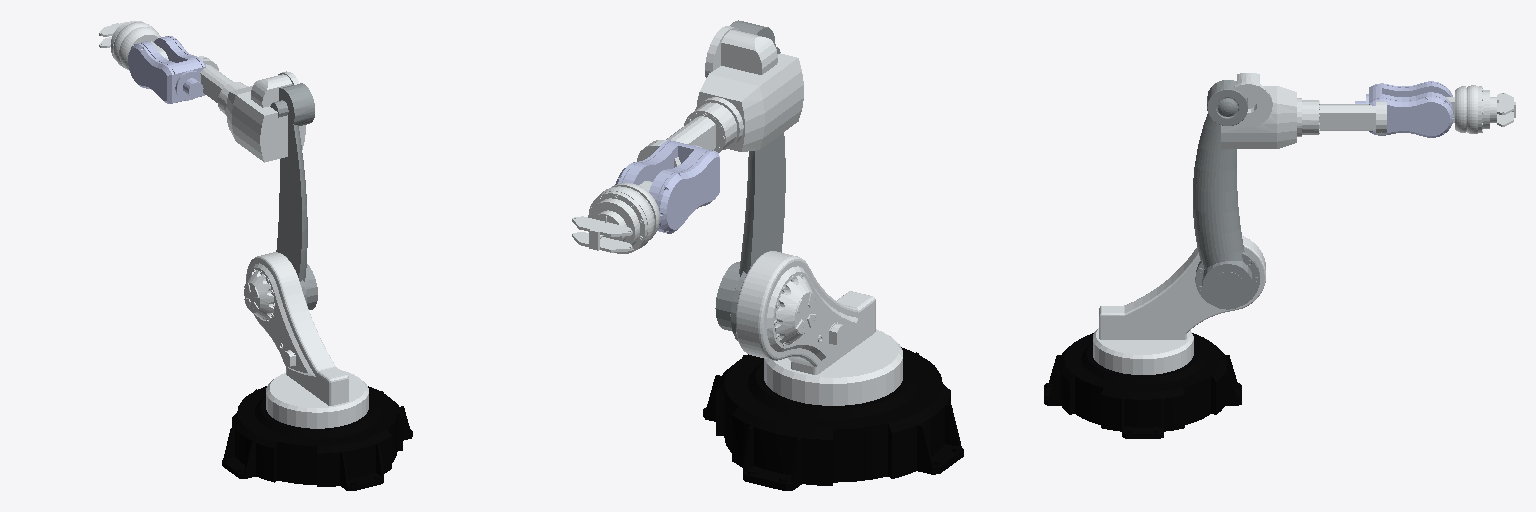
The robot description file, URDF, robot "dof6arm":
<?xml version="1.0" encoding="utf-8"?>
<!-- This URDF was automatically created by SolidWorks to URDF Exporter! Originally created by Stephen Brawner (brawner@gmail.com) 
     Commit Version: 1.6.0-4-g7f85cfe  Build Version: 1.6.7995.38578
     For more information, please see http://wiki.ros.org/sw_urdf_exporter -->
<robot
  name="dof6arm">
  <link
    name="base_link">
    <inertial>
      <origin
        xyz="-4.0864E-17 5.9406E-17 0.039627"
        rpy="0 0 0" />
      <mass
        value="5.5104" />
      <inertia
        ixx="0.032533"
        ixy="-5.673E-17"
        ixz="6.6064E-18"
        iyy="0.032533"
        iyz="2.006E-18"
        izz="0.058905" />
    </inertial>
    <visual>
      <origin
        xyz="0 0 0"
        rpy="0 0 0" />
      <geometry>
        <mesh
          filename="package://dof6arm/meshes/base_link.STL" />
      </geometry>
      <material
        name="">
        <color
          rgba="0.058824 0.058824 0.058824 1" />
      </material>
    </visual>
    <collision>
      <origin
        xyz="0 0 0"
        rpy="0 0 0" />
      <geometry>
        <mesh
          filename="package://dof6arm/meshes/base_link.STL" />
      </geometry>
    </collision>
  </link>
  <link
    name="link1">
    <inertial>
      <origin
        xyz="0.0563146133187169 0.00239652717597299 0.0813964976165743"
        rpy="0 0 0" />
      <mass
        value="2.25493378297323" />
      <inertia
        ixx="0.011607639577804"
        ixy="-0.000401687438060295"
        ixz="-0.00887971625811838"
        iyy="0.0231563698921059"
        iyz="-0.000351050031071559"
        izz="0.0158798775719755" />
    </inertial>
    <visual>
      <origin
        xyz="0 0 0"
        rpy="0 0 0" />
      <geometry>
        <mesh
          filename="package://dof6arm/meshes/link1.STL" />
      </geometry>
      <material
        name="">
        <color
          rgba="0.898039215686275 0.917647058823529 0.929411764705882 1" />
      </material>
    </visual>
    <collision>
      <origin
        xyz="0 0 0"
        rpy="0 0 0" />
      <geometry>
        <mesh
          filename="package://dof6arm/meshes/link1.STL" />
      </geometry>
    </collision>
  </link>
  <joint
    name="joint1"
    type="revolute">
    <origin
      xyz="0 0 0.085"
      rpy="0 0 1.5708" />
    <parent
      link="base_link" />
    <child
      link="link1" />
    <axis
      xyz="0 0 1" />
    <limit
      lower="-3.14"
      upper="3.14"
      effort="200"
      velocity="10" />
  </joint>
  <link
    name="link2">
    <inertial>
      <origin
        xyz="-0.00806034777883224 0.142663588040641 0.015222810563985"
        rpy="0 0 0" />
      <mass
        value="0.920714229759599" />
      <inertia
        ixx="0.0178612448022285"
        ixy="0.00015240648671748"
        ixz="-3.03747804024019E-05"
        iyy="0.000614865169369136"
        iyz="7.16300104564684E-05"
        izz="0.0182052343067563" />
    </inertial>
    <visual>
      <origin
        xyz="0 0 0"
        rpy="0 0 0" />
      <geometry>
        <mesh
          filename="package://dof6arm/meshes/link2.STL" />
      </geometry>
      <material
        name="">
        <color
          rgba="0.63921568627451 0.666666666666667 0.67843137254902 1" />
      </material>
    </visual>
    <collision>
      <origin
        xyz="0 0 0"
        rpy="0 0 0" />
      <geometry>
        <mesh
          filename="package://dof6arm/meshes/link2.STL" />
      </geometry>
    </collision>
  </link>
  <joint
    name="joint2"
    type="revolute">
    <origin
      xyz="0.15 -0.02 0.16"
      rpy="1.5708 0 0" />
    <parent
      link="link1" />
    <child
      link="link2" />
    <axis
      xyz="0 0 1" />
    <limit
      lower="-1.57"
      upper="1.57"
      effort="200"
      velocity="10" />
  </joint>
  <link
    name="link3">
    <inertial>
      <origin
        xyz="-0.0399152602038644 -0.0446167070292327 -0.0460373494010405"
        rpy="0 0 0" />
      <mass
        value="1.43145554418529" />
      <inertia
        ixx="0.00807676591024907"
        ixy="-0.000324747907195901"
        ixz="-0.000112859910370775"
        iyy="0.00186636959248532"
        iyz="-9.341394228171E-05"
        izz="0.00844554620214213" />
    </inertial>
    <visual>
      <origin
        xyz="0 0 0"
        rpy="0 0 0" />
      <geometry>
        <mesh
          filename="package://dof6arm/meshes/link3.STL" />
      </geometry>
      <material
        name="">
        <color
          rgba="0.898039215686275 0.917647058823529 0.929411764705882 1" />
      </material>
    </visual>
    <collision>
      <origin
        xyz="0 0 0"
        rpy="0 0 0" />
      <geometry>
        <mesh
          filename="package://dof6arm/meshes/link3.STL" />
      </geometry>
    </collision>
  </link>
  <joint
    name="joint3"
    type="revolute">
    <origin
      xyz="0 0.35 0"
      rpy="0 0 1.5708" />
    <parent
      link="link2" />
    <child
      link="link3" />
    <axis
      xyz="0 0 1" />
    <limit
      lower="-3.14"
      upper="1.57"
      effort="200"
      velocity="10" />
  </joint>
  <link
    name="link4">
    <inertial>
      <origin
        xyz="0 -9.99200722162641E-16 0.065964889335451"
        rpy="0 0 0" />
      <mass
        value="0.581435273248315" />
      <inertia
        ixx="0.00158017066215487"
        ixy="2.44381629558985E-10"
        ixz="-7.35582035514334E-19"
        iyy="0.0014063460239573"
        iyz="-1.03875614714129E-18"
        izz="0.000596523986913166" />
    </inertial>
    <visual>
      <origin
        xyz="0 0 0"
        rpy="0 0 0" />
      <geometry>
        <mesh
          filename="package://dof6arm/meshes/link4.STL" />
      </geometry>
      <material
        name="">
        <color
          rgba="0.792156862745098 0.819607843137255 0.933333333333333 1" />
      </material>
    </visual>
    <collision>
      <origin
        xyz="0 0 0"
        rpy="0 0 0" />
      <geometry>
        <mesh
          filename="package://dof6arm/meshes/link4.STL" />
      </geometry>
    </collision>
  </link>
  <joint
    name="joint4"
    type="revolute">
    <origin
      xyz="-0.045 -0.251 -0.0475"
      rpy="1.5708 0 0" />
    <parent
      link="link3" />
    <child
      link="link4" />
    <axis
      xyz="0 0 1" />
    <limit
      lower="-3.14"
      upper="3.14"
      effort="200"
      velocity="10" />
  </joint>
  <link
    name="link5">
    <inertial>
      <origin
        xyz="-1.11022302462516E-16 -0.0589618551287788 0.00017831823908418"
        rpy="0 0 0" />
      <mass
        value="0.339144547925522" />
      <inertia
        ixx="0.000355541202477726"
        ixy="-7.6745270608399E-22"
        ixz="-3.2011026778204E-23"
        iyy="0.000248853470602005"
        iyz="-3.56575702010573E-06"
        izz="0.000358769992191287" />
    </inertial>
    <visual>
      <origin
        xyz="0 0 0"
        rpy="0 0 0" />
      <geometry>
        <mesh
          filename="package://dof6arm/meshes/link5.STL" />
      </geometry>
      <material
        name="">
        <color
          rgba="0.898039215686275 0.917647058823529 0.929411764705882 1" />
      </material>
    </visual>
    <collision>
      <origin
        xyz="0 0 0"
        rpy="0 0 0" />
      <geometry>
        <mesh
          filename="package://dof6arm/meshes/link5.STL" />
      </geometry>
    </collision>
  </link>
  <joint
    name="joint5"
    type="revolute">
    <origin
      xyz="0 0.0005 0.11"
      rpy="-1.5708 0 0" />
    <parent
      link="link4" />
    <child
      link="link5" />
    <axis
      xyz="0 0 1" />
    <limit
      lower="-1.57"
      upper="1.57"
      effort="200"
      velocity="10" />
  </joint>
  <link
    name="link6">
    <inertial>
      <origin
        xyz="0 -1.17961196366423E-15 0.00628470620704225"
        rpy="0 0 0" />
      <mass
        value="0.0762574810565132" />
      <inertia
        ixx="3.79559798700621E-05"
        ixy="-5.78032232262219E-21"
        ixz="5.98732041747797E-22"
        iyy="3.20288004196063E-05"
        iyz="2.81145560238281E-20"
        izz="3.99525744954328E-05" />
    </inertial>
    <visual>
      <origin
        xyz="0 0 0"
        rpy="0 0 0" />
      <geometry>
        <mesh
          filename="package://dof6arm/meshes/link6.STL" />
      </geometry>
      <material
        name="">
        <color
          rgba="0.898039215686275 0.917647058823529 0.929411764705882 1" />
      </material>
    </visual>
    <collision>
      <origin
        xyz="0 0 0"
        rpy="0 0 0" />
      <geometry>
        <mesh
          filename="package://dof6arm/meshes/link6.STL" />
      </geometry>
    </collision>
  </link>
  <joint
    name="joint6"
    type="revolute">
    <origin
      xyz="0 -0.104 0"
      rpy="1.5708 0 0" />
    <parent
      link="link5" />
    <child
      link="link6" />
    <axis
      xyz="0 0 1" />
    <limit
      lower="-3.14"
      upper="3.14"
      effort="200"
      velocity="10" />
  </joint>
  <link
    name="endfector">
    <inertial>
      <origin
        xyz="1.11022302462516E-16 -1.12410081243297E-15 -0.0393199974870748"
        rpy="0 0 0" />
      <mass
        value="0.0762574810565132" />
      <inertia
        ixx="3.79559798700621E-05"
        ixy="-3.43785535520926E-21"
        ixz="1.43016355725182E-22"
        iyy="3.20288004196063E-05"
        iyz="4.99890516382123E-21"
        izz="3.99525744954328E-05" />
    </inertial>
    <visual>
      <origin
        xyz="0 0 0"
        rpy="0 0 0" />
      <geometry>
        <mesh
          filename="package://dof6arm/meshes/endfector.STL" />
      </geometry>
      <material
        name="">
        <color
          rgba="0.898039215686275 0.917647058823529 0.929411764705882 1" />
      </material>
    </visual>
    <collision>
      <origin
        xyz="0 0 0"
        rpy="0 0 0" />
      <geometry>
        <mesh
          filename="package://dof6arm/meshes/endfector.STL" />
      </geometry>
    </collision>
  </link>
  <joint
    name="joint7"
    type="fixed">
    <origin
      xyz="0 0 0.045605"
      rpy="0 0 0" />
    <parent
      link="link6" />
    <child
      link="endfector" />
    <axis
      xyz="0 0 0" />
  </joint>
</robot>

--- What the picture shows (computed from the rendered views, not written in the file) ---
3 views of the same robot in one strip: view 1: azimuth 30°, elevation 25°; view 2: azimuth 150°, elevation 25°; view 3: azimuth 270°, elevation 25° (orthographic).
Robot: dof6arm — 8 links, 7 joints (6 revolute, 1 fixed); root link base_link; default pose: every joint at zero.
Visible links, largest first — view 1: base_link, link1, link2, link3, link4, link5; view 2: base_link, link1, link3, link2, link4, link6, link5; view 3: base_link, link2, link1, link3, link4, link5, link6.
Link boxes in pixels (x1,y1,x2,y2): base_link: (222, 386, 412, 490); link1: (244, 252, 368, 428); link2: (270, 83, 317, 309); link3: (199, 56, 305, 162); link4: (128, 36, 205, 103); link5: (111, 21, 168, 70); base_link: (703, 347, 963, 490); link1: (736, 251, 902, 405); link3: (637, 26, 803, 167); link2: (715, 20, 785, 340); link4: (615, 140, 719, 233); link6: (572, 199, 638, 252); link5: (588, 181, 659, 253); base_link: (1044, 333, 1241, 438); link2: (1193, 80, 1259, 309); link1: (1093, 236, 1265, 374); link3: (1221, 73, 1386, 148); link4: (1355, 81, 1453, 137); link5: (1446, 85, 1483, 133); link6: (1484, 90, 1515, 128).
Bounding box of the posed robot: 0.35 × 0.8356 × 0.6394 m (x, y, z).
8 mesh visuals loaded from 8 distinct referenced files (8 binary STL).
